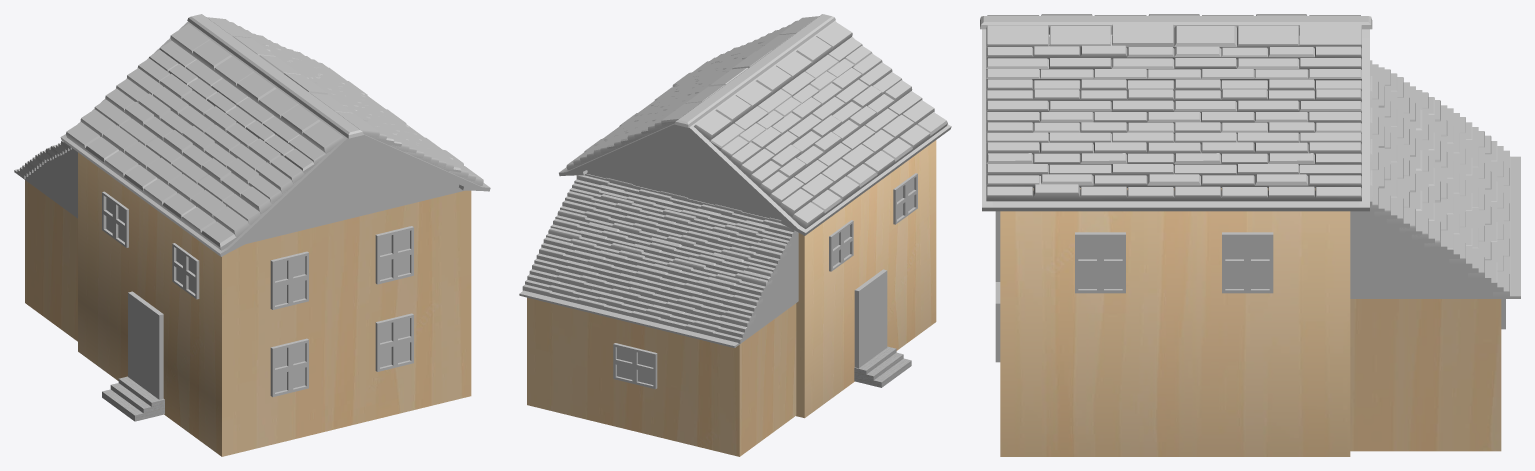
File: minju1.fbx
3 renders of one model, left to right at view 1: azimuth 30°, elevation 25°; view 2: azimuth 150°, elevation 25°; view 3: azimuth 270°, elevation 25°, orthographic. The views are drawn at different scales.
Visible parts, largest first — view 1: g5; view 2: g5; view 3: g5.
Part boxes in pixels (x1,y1,x2,y2): g5: (14,14,490,456); g5: (519,14,951,456); g5: (980,14,1520,456).
Size of the model in its own units: 3.57 by 3.51 by 4.72.
